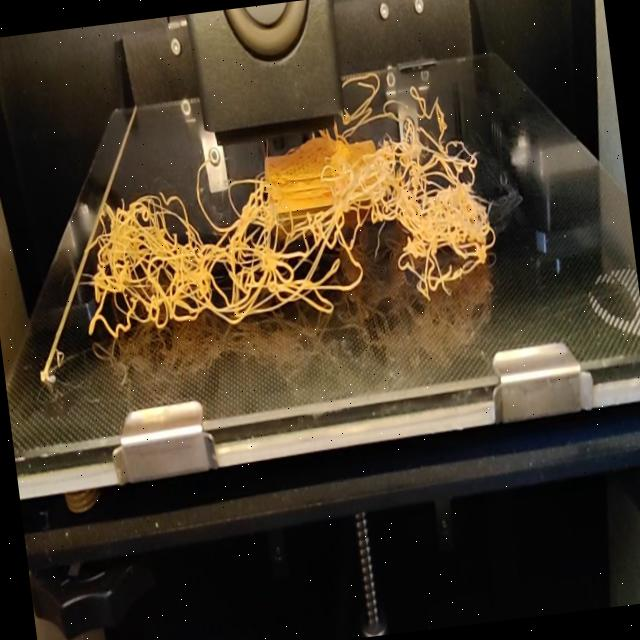spaghetti: (70, 112, 503, 341), (337, 52, 442, 125)
